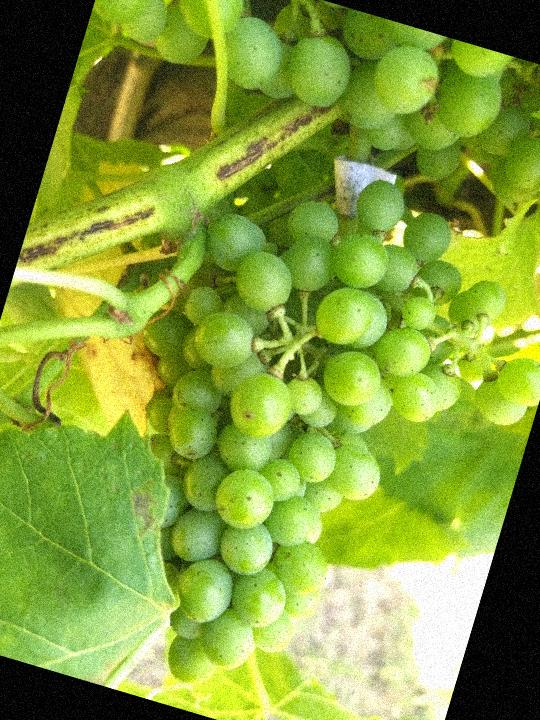grape: (50, 127, 540, 720)
